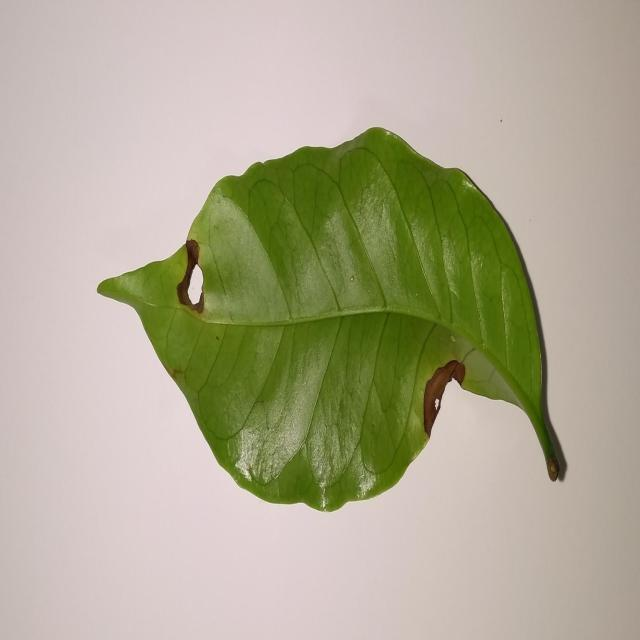phoma: (423, 360, 466, 439), (177, 239, 205, 316)
